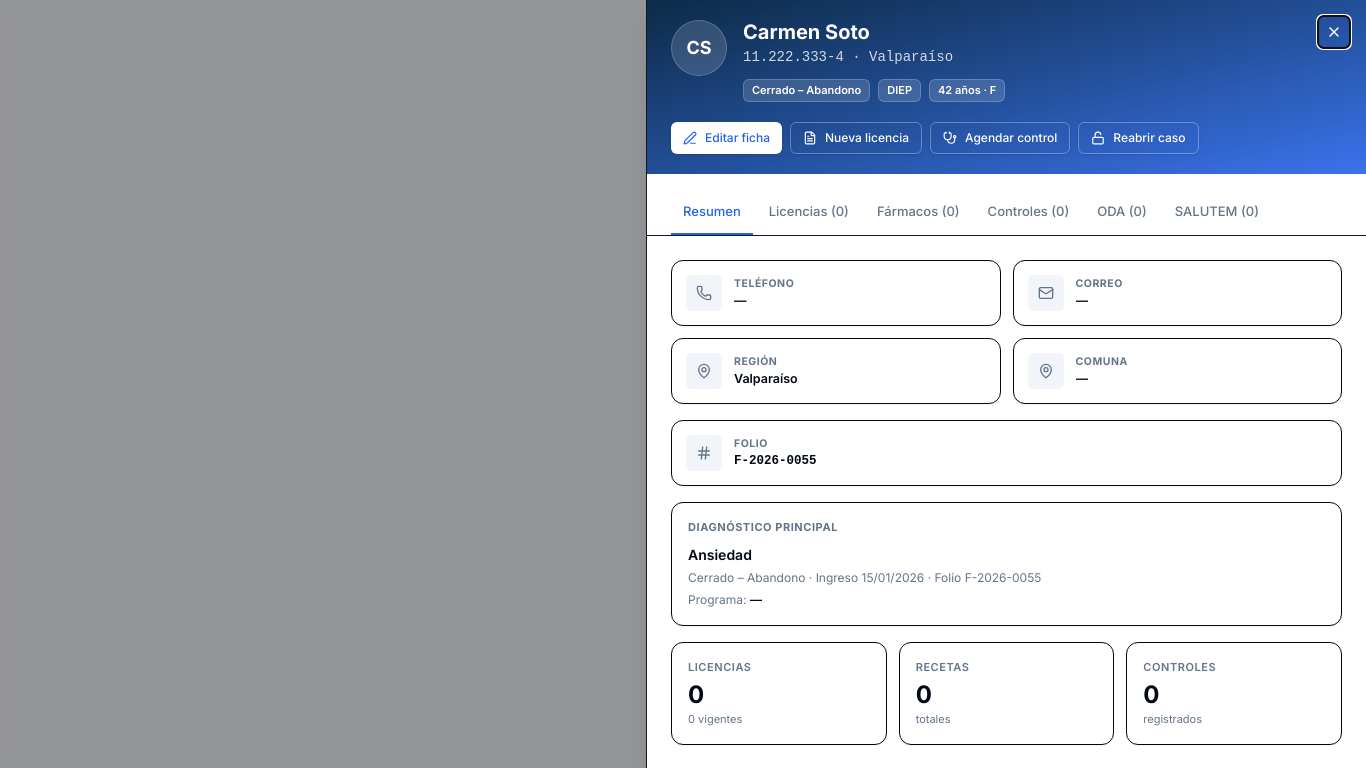
Scenario: PatientSheet — historial de cierres (QA-007) › el aviso de reapertura dice que el cierre queda en el historial, no que se borra
This screenshot has width=1366, height=768.
Click the button with test id "btn-reabrir-caso" at (1138, 138), box [1078,122,1199,154]
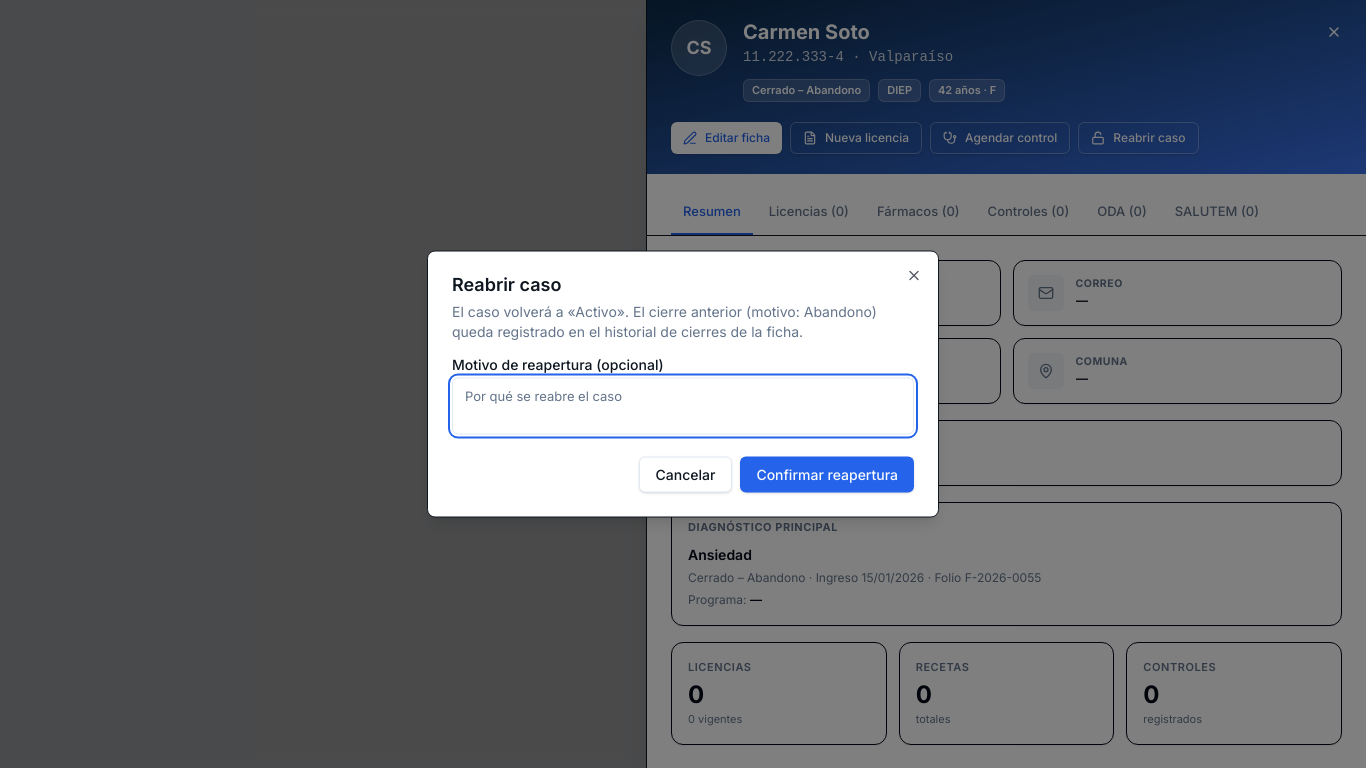
Check: the dialog "Reabrir caso" does not show "borrar", box [427,250,939,518]
Check: the dialog "Reabrir caso" shows "queda registrado en el historial de cierres", box [452,302,877,340]
Check: the text box labelled "Motivo de reapertura (opcional)" is shown, box [452,378,914,434]
